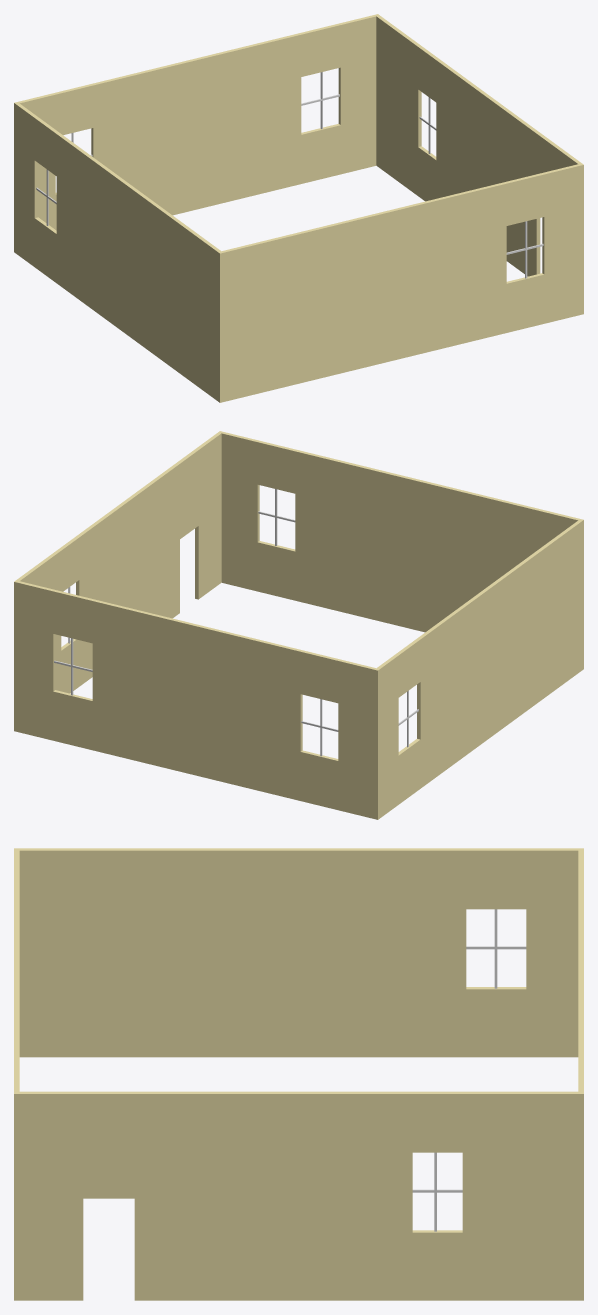
Rendered from kitchen_walls.dae.
3 views of the same model, one above another, from view 1: azimuth 30°, elevation 25°; view 2: azimuth 150°, elevation 25°; view 3: azimuth 270°, elevation 25° (orthographic). The views are drawn at different scales.
Visible parts, largest first — view 1: Cube_010, Cube, Cube_009, Cube_008; view 2: Cube, Cube_010, Cube_009, Cube_008; view 3: Cube_009, Cube_008, Cube_010, Cube.
Boxes of the visible parts, left/top/right/bottom form: Cube_010: left=222, top=164, right=580, bottom=401; Cube: left=18, top=15, right=376, bottom=230; Cube_009: left=14, top=102, right=223, bottom=402; Cube_008: left=375, top=14, right=583, bottom=314; Cube: left=17, top=581, right=375, bottom=818; Cube_010: left=221, top=432, right=579, bottom=632; Cube_009: left=374, top=519, right=583, bottom=819; Cube_008: left=14, top=431, right=222, bottom=731; Cube_009: left=14, top=848, right=583, bottom=1057; Cube_008: left=14, top=1091, right=583, bottom=1300; Cube_010: left=14, top=850, right=19, bottom=1091; Cube: left=578, top=850, right=583, bottom=1091.
Size of the model in its own units: 10.2 by 10 by 4.
4 materials, 4 textured.
